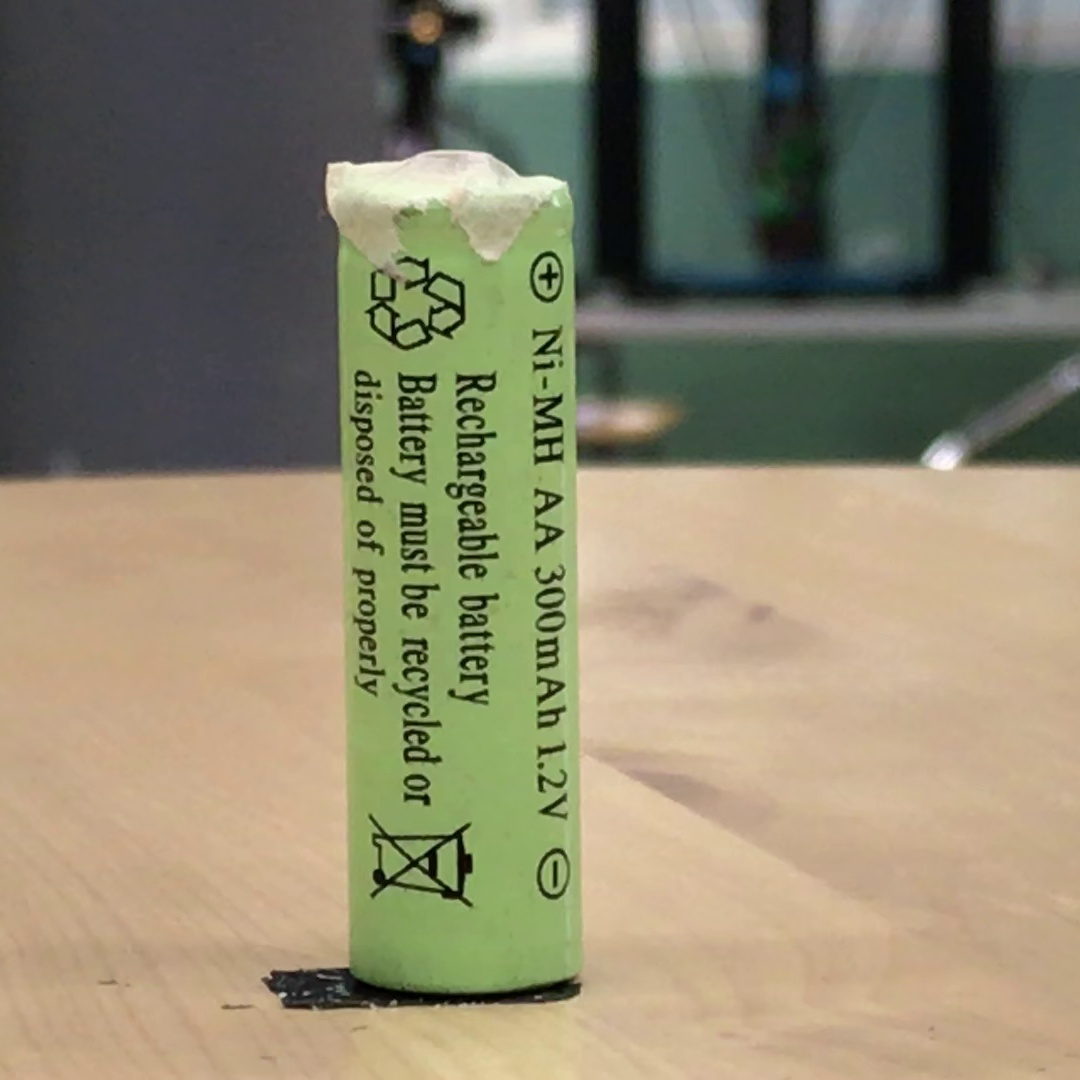keyword: (523, 316, 573, 469), (528, 734, 577, 829)
